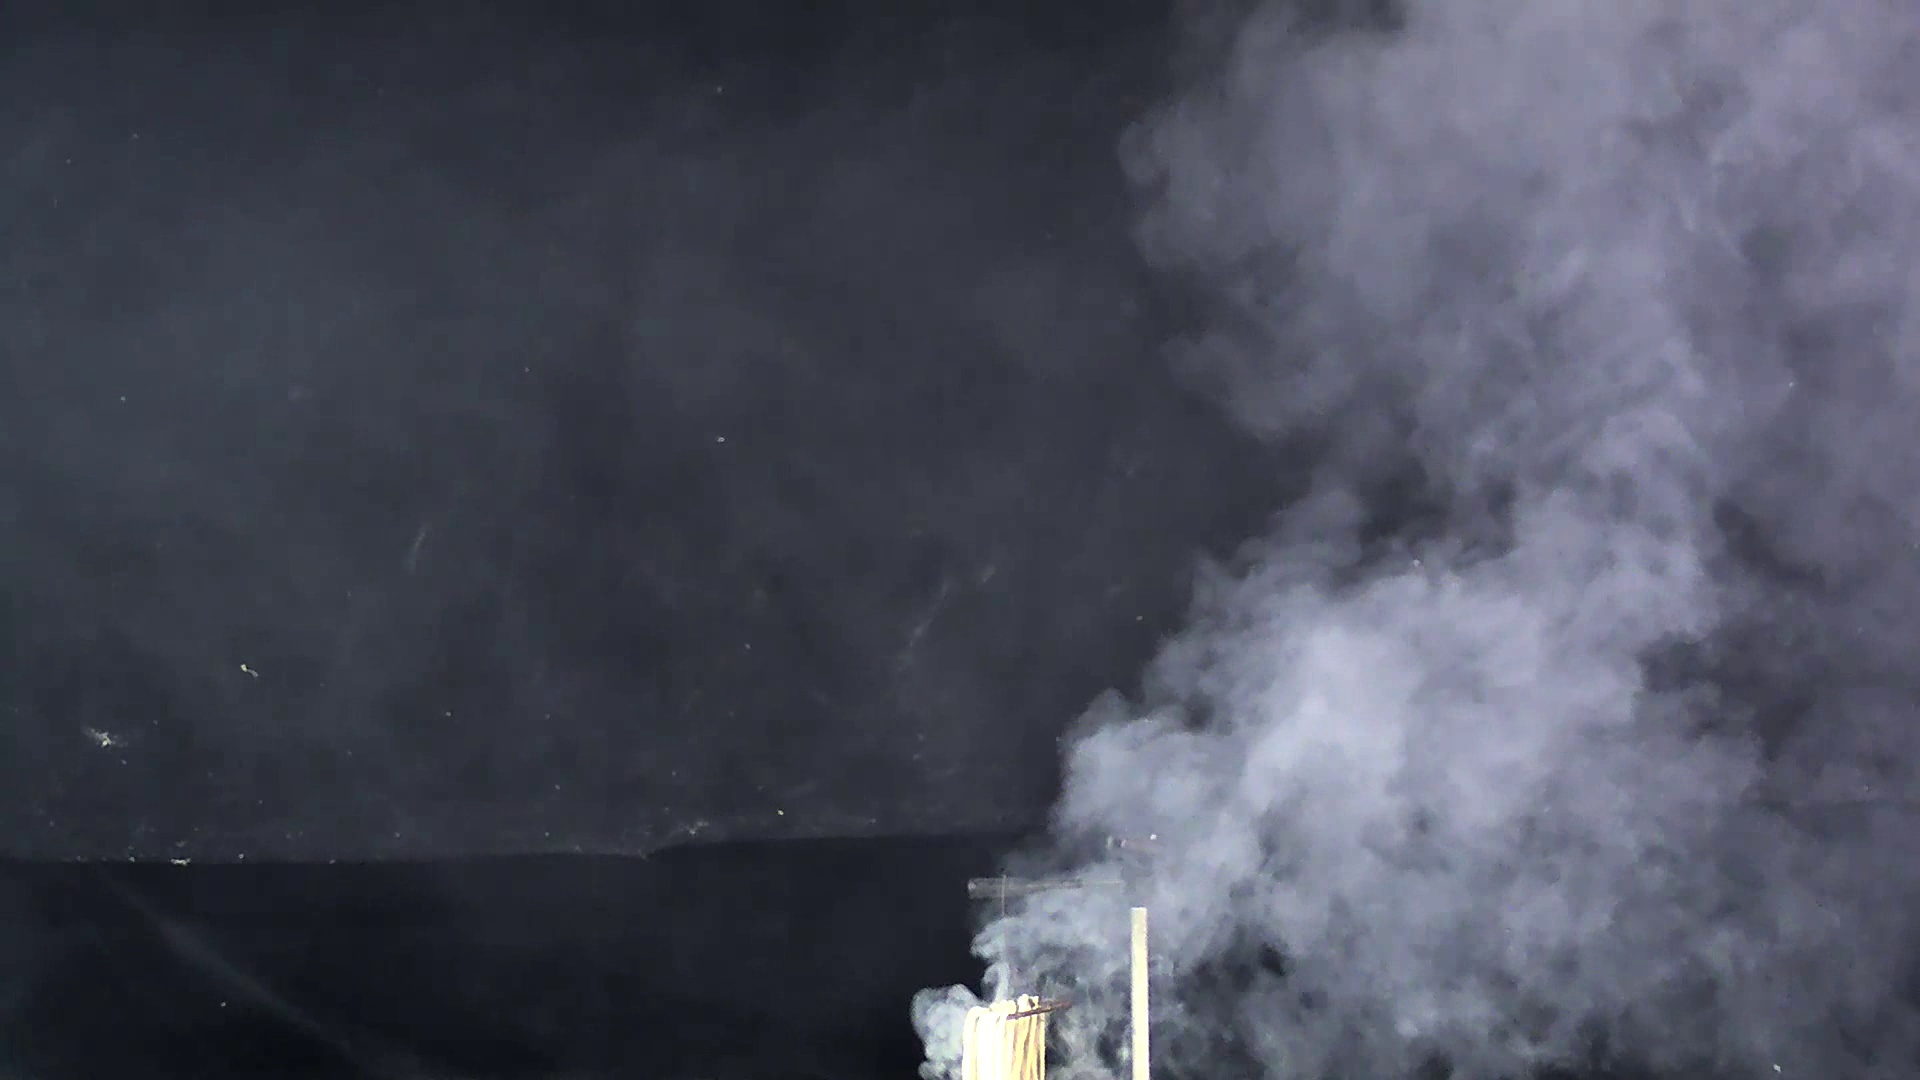smoke: (919, 434, 1755, 1080)
